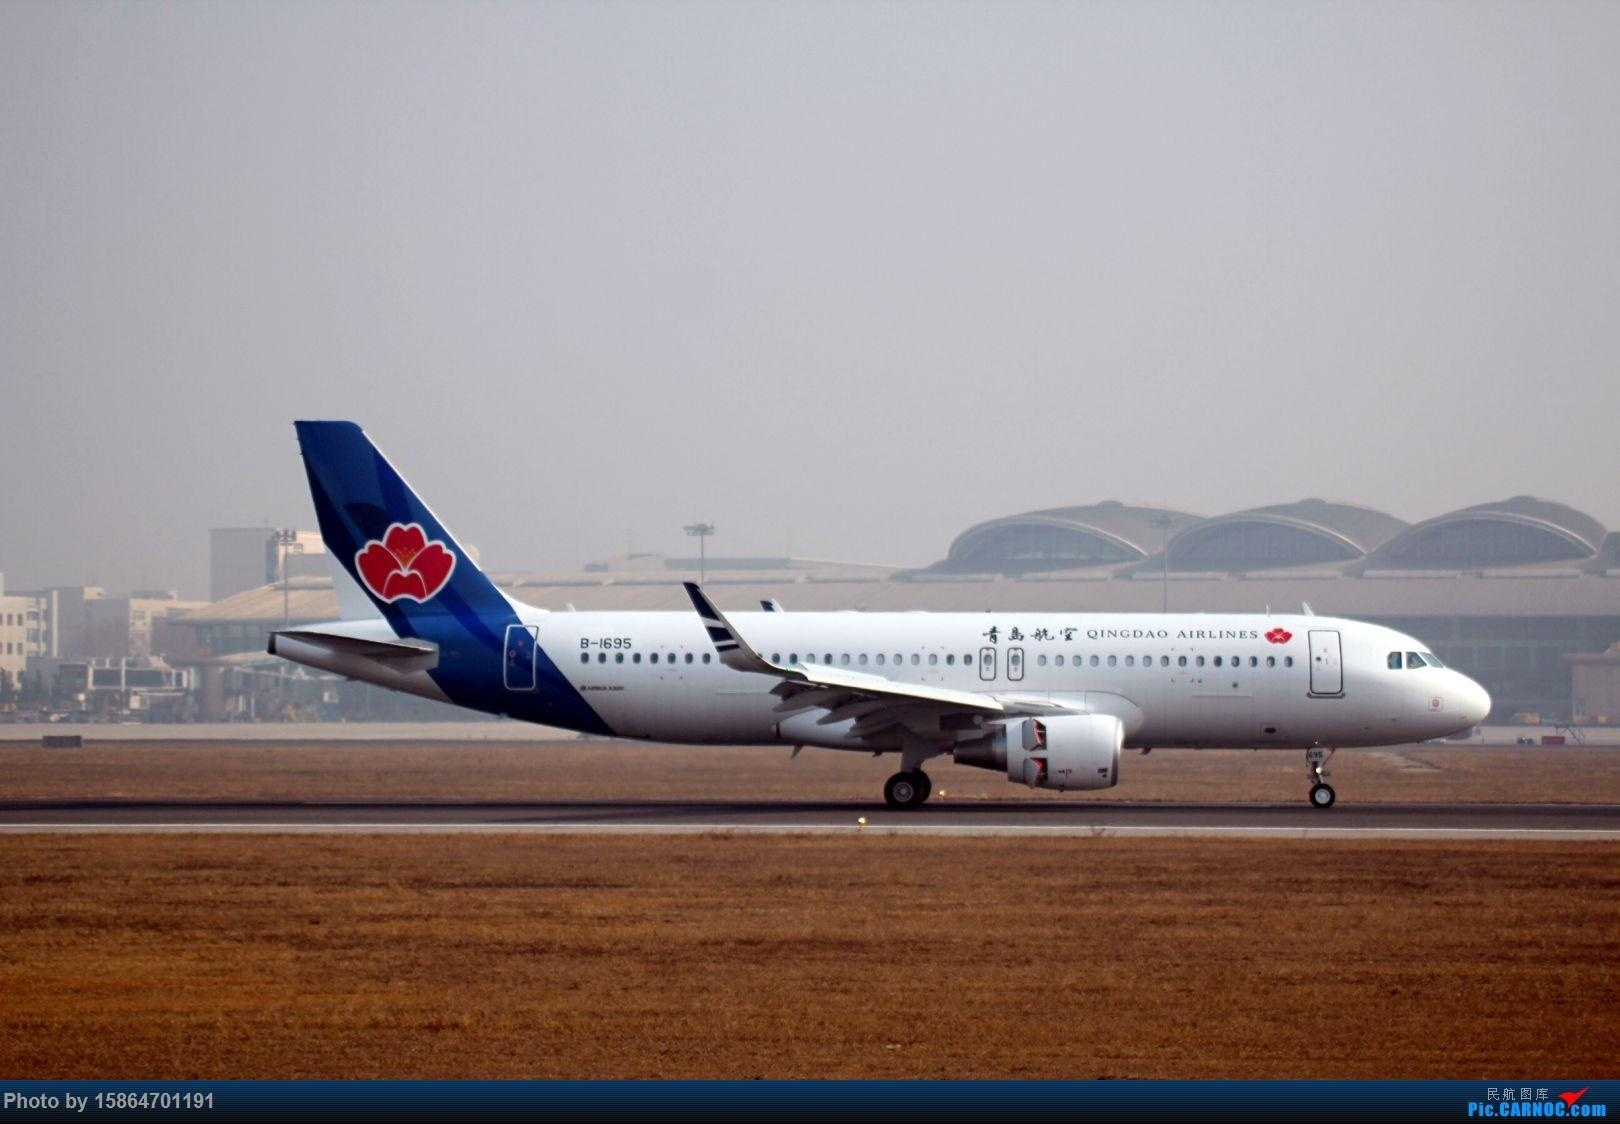airplane: (256, 415, 1494, 813)
